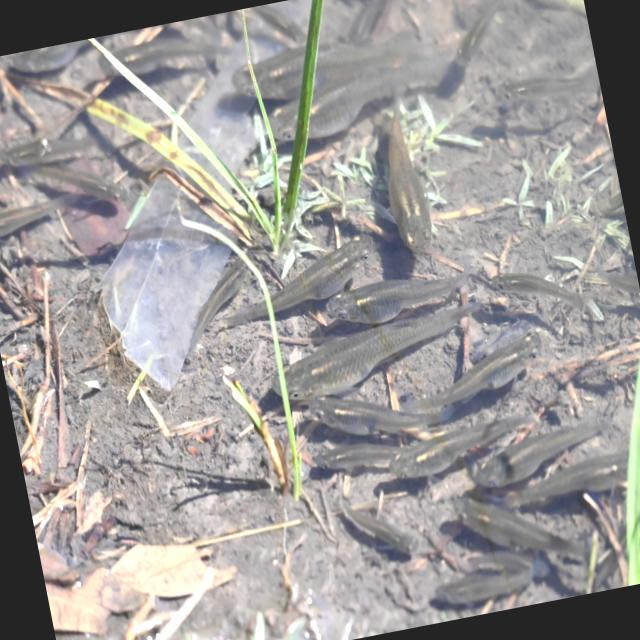Sivrisinek Baligi: (212, 230, 390, 328), (364, 80, 454, 263), (484, 230, 610, 344), (402, 324, 552, 416), (309, 365, 456, 451)
